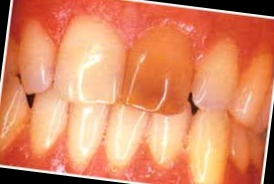Tooth Discoloration: (118, 20, 197, 116)
